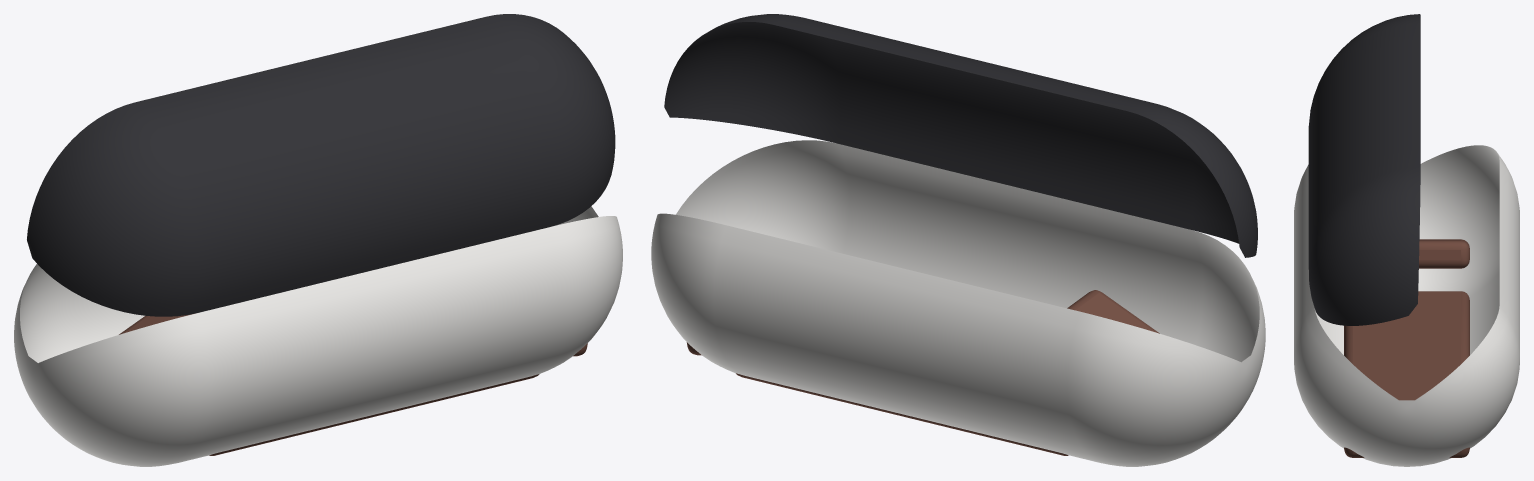
Rendered from pod-probe.glb.
3 views of the same model, side by side, from view 1: azimuth 30°, elevation 25°; view 2: azimuth 150°, elevation 25°; view 3: azimuth 270°, elevation 25° (orthographic). The views are drawn at different scales.
Visible parts, largest first — view 1: Canopy, Shell, Couch; view 2: Shell, Canopy, Couch; view 3: Shell, Canopy, Couch.
Boxes of the visible parts, bbox=[...] form: Canopy: bbox=[27, 14, 615, 316]; Shell: bbox=[14, 206, 622, 466]; Couch: bbox=[119, 313, 587, 455]; Shell: bbox=[651, 140, 1265, 466]; Canopy: bbox=[664, 14, 1257, 257]; Couch: bbox=[686, 290, 1159, 455]; Shell: bbox=[1294, 145, 1519, 466]; Canopy: bbox=[1308, 14, 1420, 325]; Couch: bbox=[1344, 239, 1469, 457].
Bounding box in the file's own units: 2.2 × 1.27 × 0.8981.
